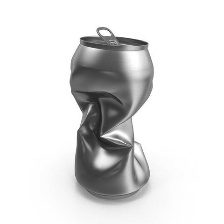can: (64, 24, 160, 203)
